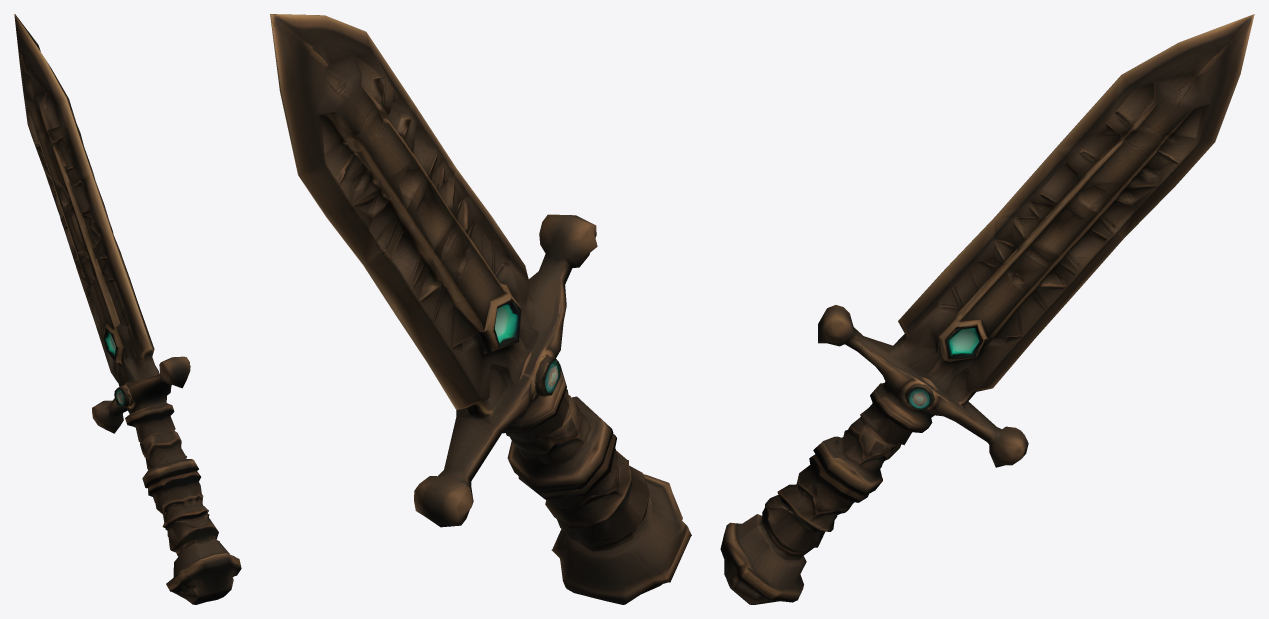
The model's file is wardens_cast_off.glb.
3 views of the same model, side by side, from view 1: azimuth 30°, elevation 25°; view 2: azimuth 150°, elevation 25°; view 3: azimuth 270°, elevation 25° (orthographic). The views are drawn at different scales.
Parts seen in each view (by area): view 1: base_model_path; view 2: base_model_path; view 3: base_model_path.
Part boxes in pixels (bbox=[...]): base_model_path: bbox=[14, 14, 241, 604]; base_model_path: bbox=[270, 14, 691, 604]; base_model_path: bbox=[720, 14, 1254, 604].
Size of the model in its own units: 0.1427 by 0.9987 by 0.8228.
Materials: 1 (1 with a texture image).
